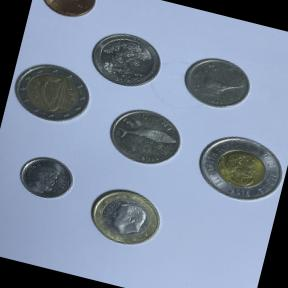coin: (187, 121, 288, 212), (4, 54, 100, 132), (78, 178, 168, 257), (100, 99, 190, 175), (84, 24, 170, 95), (9, 146, 82, 211), (33, 0, 101, 24)
